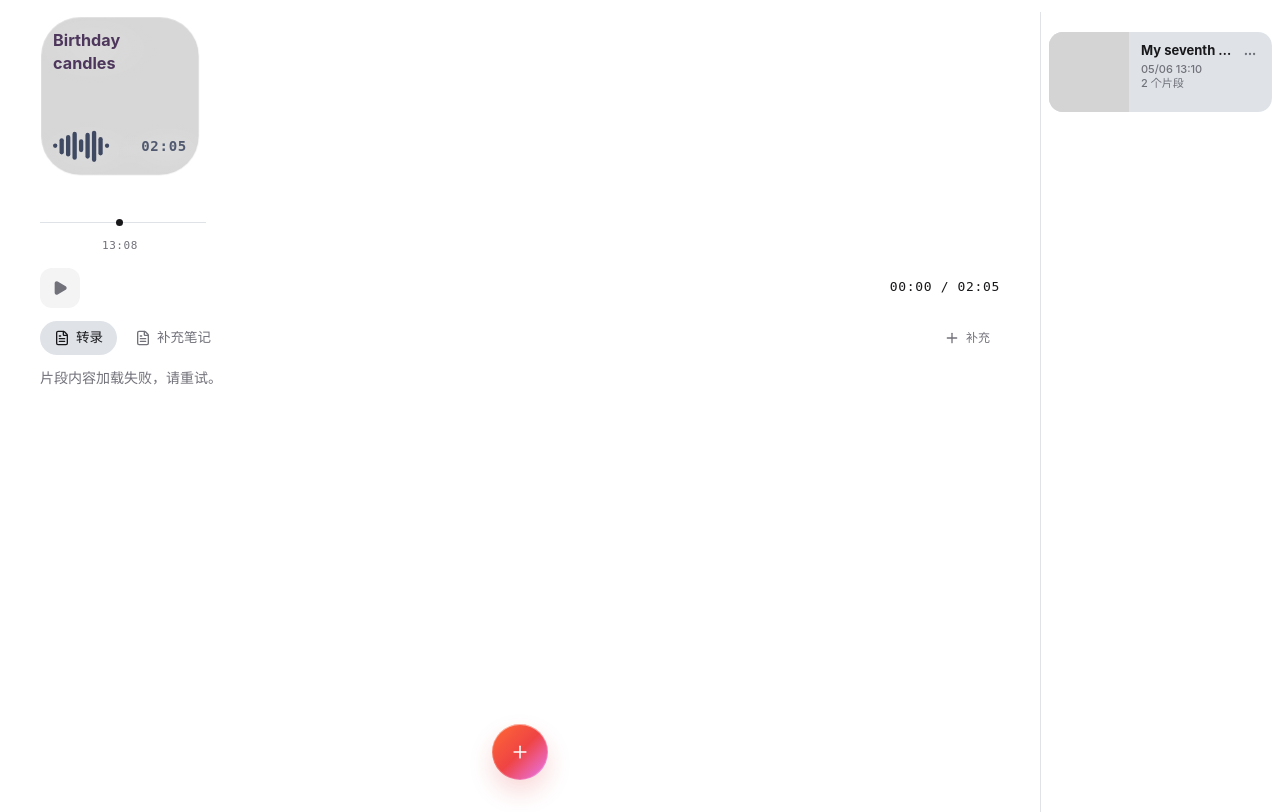
Test: LoadedWorkspaceFrame › uses the always-visible editor for an empty note supplement
Step 1. Click the tab "补充笔记" → click(166, 338), box [121,321,211,355]
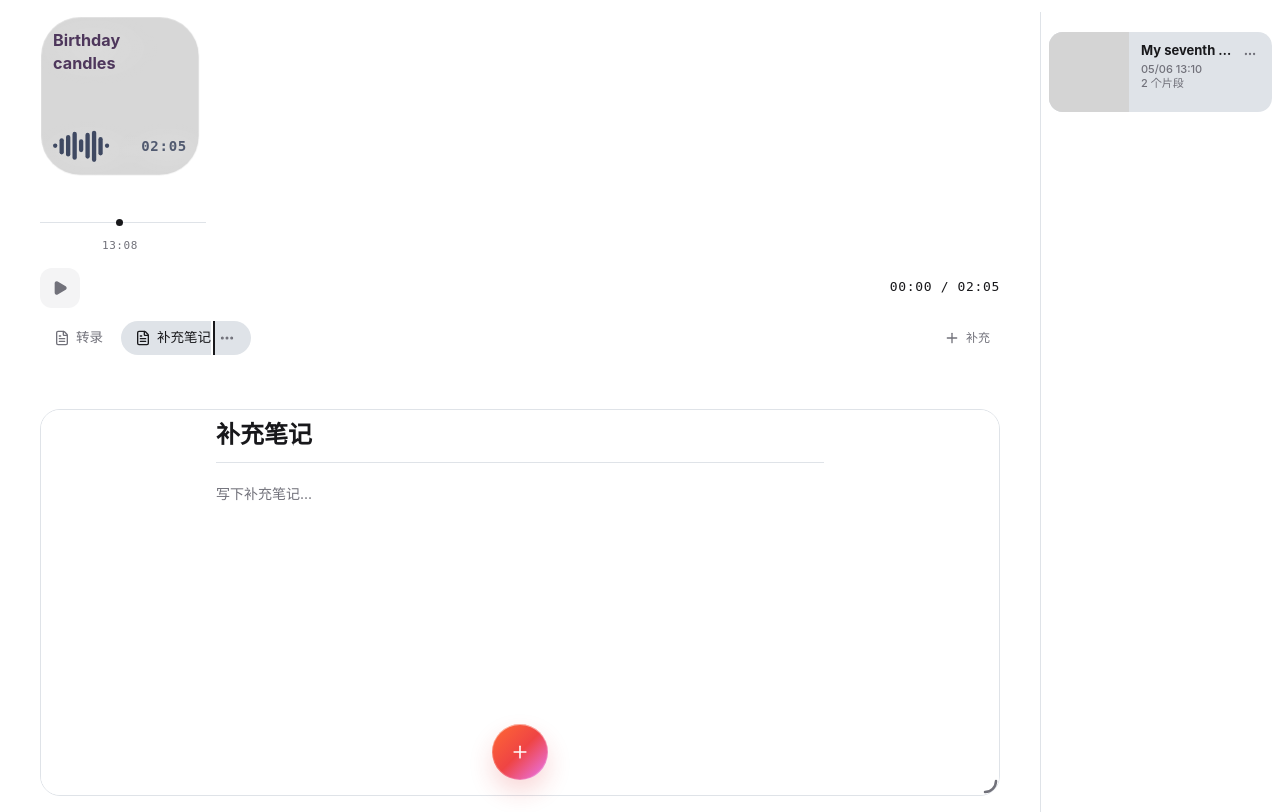
Check: the field named "补充笔记正文" is empty, box [216,483,824,505]
Check: the text "写下补充笔记..." is shown, box [216,483,312,505]
